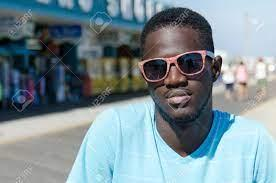sunglasses: (134, 48, 210, 84)
